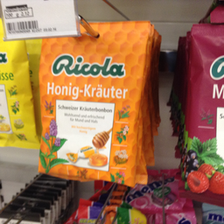candy: (35, 23, 149, 187), (180, 28, 224, 198), (1, 18, 28, 147)
